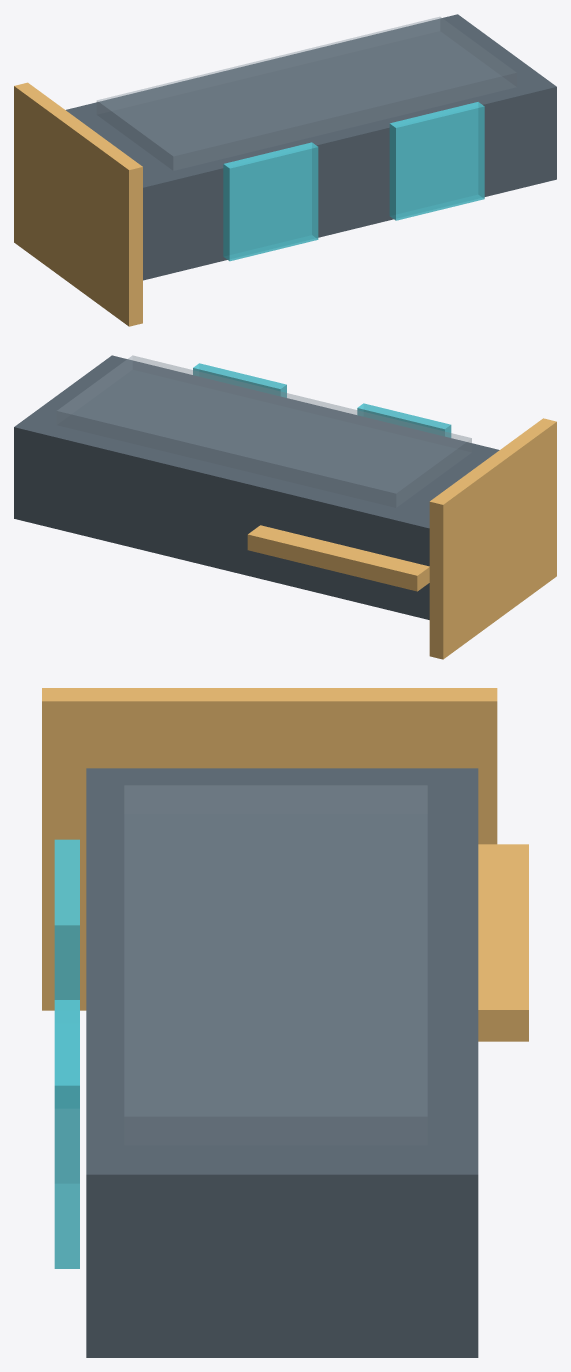
The picture shows the model from 3 angles, top to bottom: view 1: azimuth 30°, elevation 25°; view 2: azimuth 150°, elevation 25°; view 3: azimuth 270°, elevation 25°; orthographic projection. The views are drawn at different scales.
Parts seen in each view (by area): view 1: rtx 5090 fe shroud, rtx 5090 fe flow through fin stack, rtx 5090 fe io bracket, rtx 5090 fe fan visual b, rtx 5090 fe fan visual a; view 2: rtx 5090 fe shroud, rtx 5090 fe flow through fin stack, rtx 5090 fe io bracket, rtx 5090 fe pcie connector, rtx 5090 fe fan visual a, rtx 5090 fe fan visual b; view 3: rtx 5090 fe shroud, rtx 5090 fe flow through fin stack, rtx 5090 fe io bracket, rtx 5090 fe pcie connector, rtx 5090 fe fan visual b, rtx 5090 fe fan visual a.
Part boxes in pixels (x1,y1,x2,y2): rtx 5090 fe shroud: (66, 14, 556, 280); rtx 5090 fe flow through fin stack: (97, 17, 516, 170); rtx 5090 fe io bracket: (14, 82, 142, 326); rtx 5090 fe fan visual b: (389, 102, 484, 220); rtx 5090 fe fan visual a: (223, 142, 318, 261); rtx 5090 fe shroud: (14, 355, 499, 619); rtx 5090 fe flow through fin stack: (57, 355, 471, 507); rtx 5090 fe io bracket: (429, 418, 556, 659); rtx 5090 fe pcie connector: (247, 525, 429, 591); rtx 5090 fe fan visual a: (357, 403, 451, 437); rtx 5090 fe fan visual b: (193, 363, 286, 397); rtx 5090 fe shroud: (86, 768, 478, 1357); rtx 5090 fe flow through fin stack: (124, 785, 427, 1144); rtx 5090 fe io bracket: (42, 688, 497, 1010); rtx 5090 fe pcie connector: (478, 844, 528, 1041); rtx 5090 fe fan visual b: (54, 1000, 79, 1268); rtx 5090 fe fan visual a: (54, 839, 79, 999).
Size of the model in its own units: 1.58 by 0.54 by 0.77.
